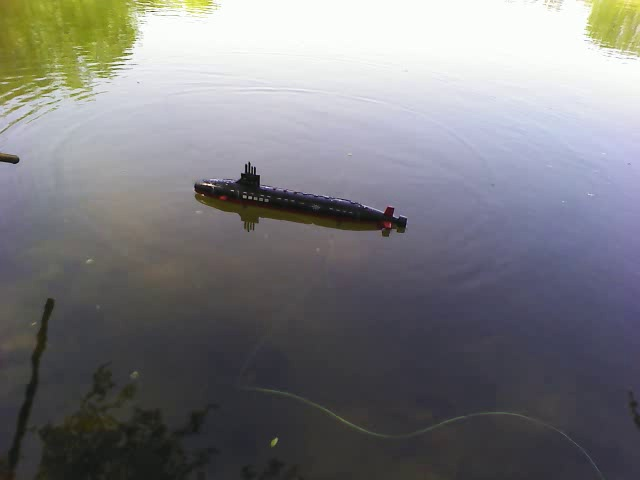submarine: (190, 161, 410, 239)
